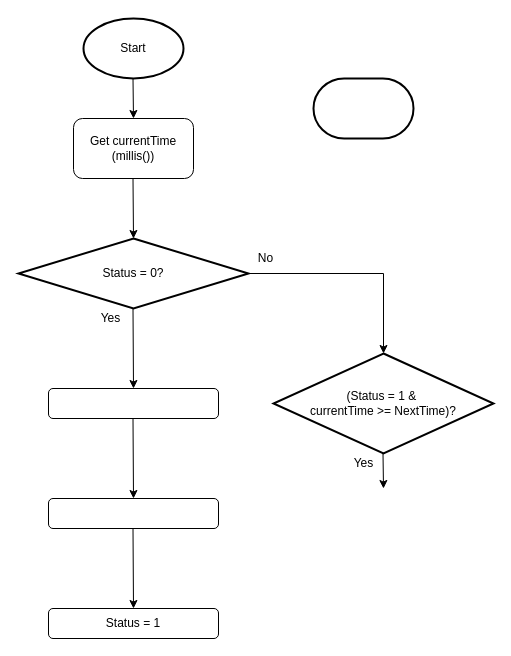
This 511x656 diagram has some shape labels left out. The shapes that lost their labels are listed below. From the top down, each one's centre as x and y in pixels, then its label:
[363,108]: End
[133,403]: Initialize wire setting
[133,513]: NextTime = currentTime + 100
